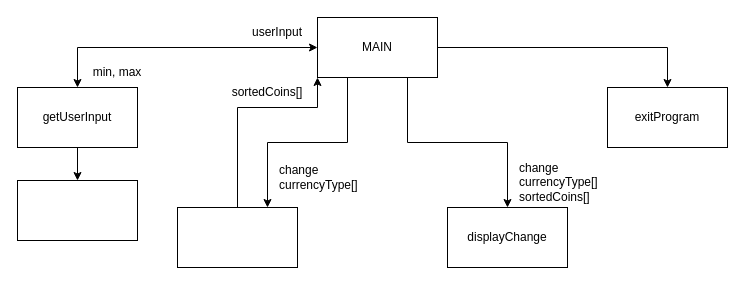
Image size: 745x285. Some labels were removed from this diagram. The box of each missing label's shape, as (x1, y1, x2, y2) in pixels:
calculateChange: (176, 206, 298, 268)
clearInputBuffer: (16, 180, 138, 240)
